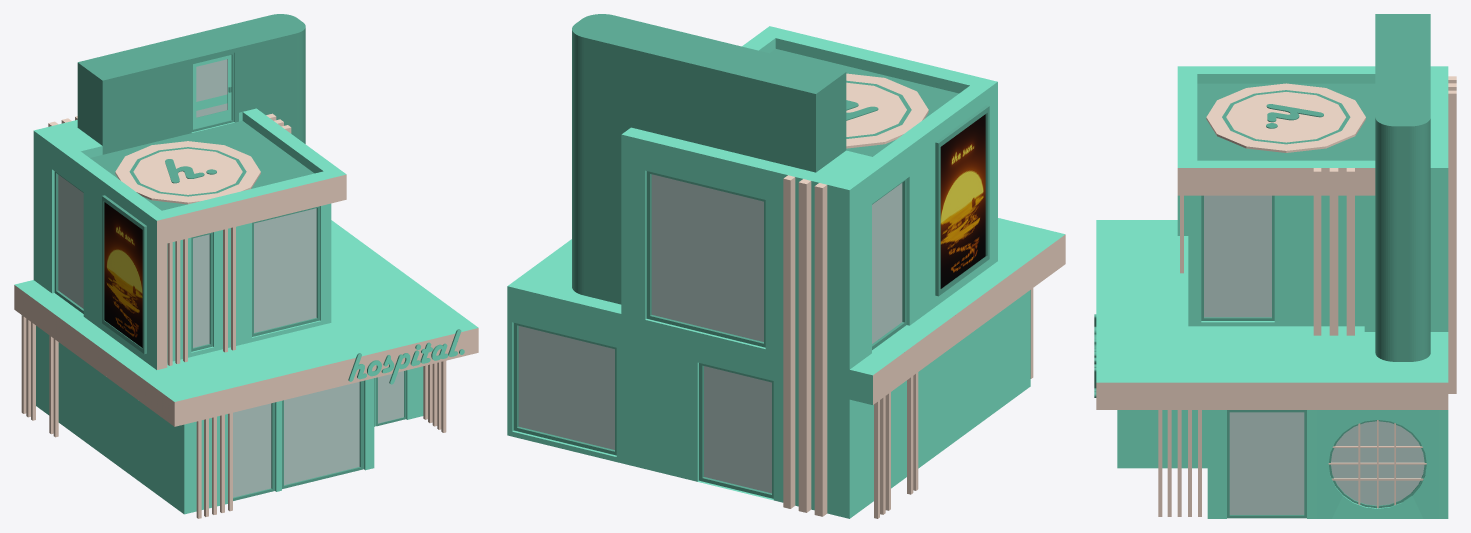
Rendered from hospital.glb.
3 views of the same model, side by side, from view 1: azimuth 30°, elevation 25°; view 2: azimuth 150°, elevation 25°; view 3: azimuth 270°, elevation 25° (orthographic). The views are drawn at different scales.
Parts seen in each view (by area): view 1: body; view 2: body; view 3: body.
Boxes of the visible parts, bbox=[...] form: body: bbox=[14, 14, 478, 518]; body: bbox=[507, 14, 1065, 518]; body: bbox=[1094, 14, 1456, 518].
Size of the model in its own units: 9.91 by 10.55 by 9.32.
5 materials, 1 textured.
